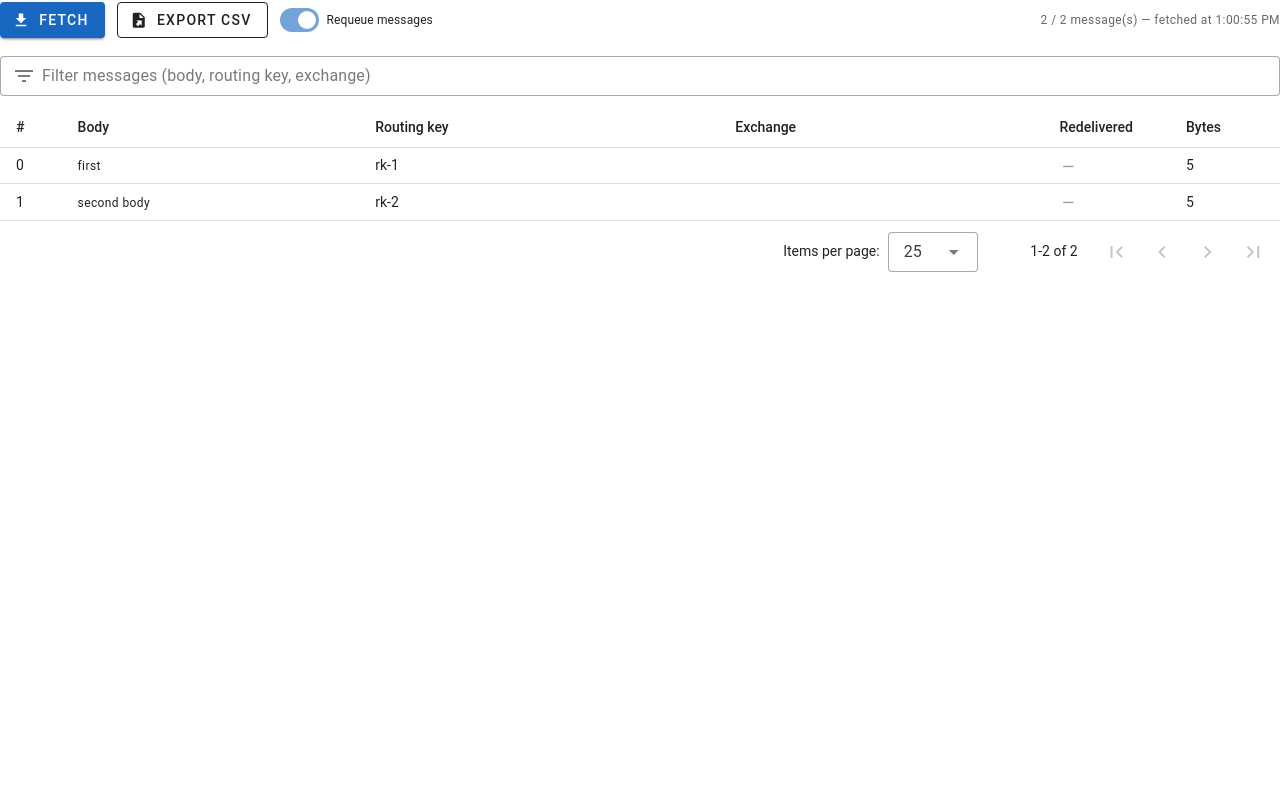
QueueMessageList › Message detail dialog › opens the detail dialog with the clicked message
Click the row "1 second body rk-2 5" at [114, 202], box left=0, top=184, right=1279, bottom=220
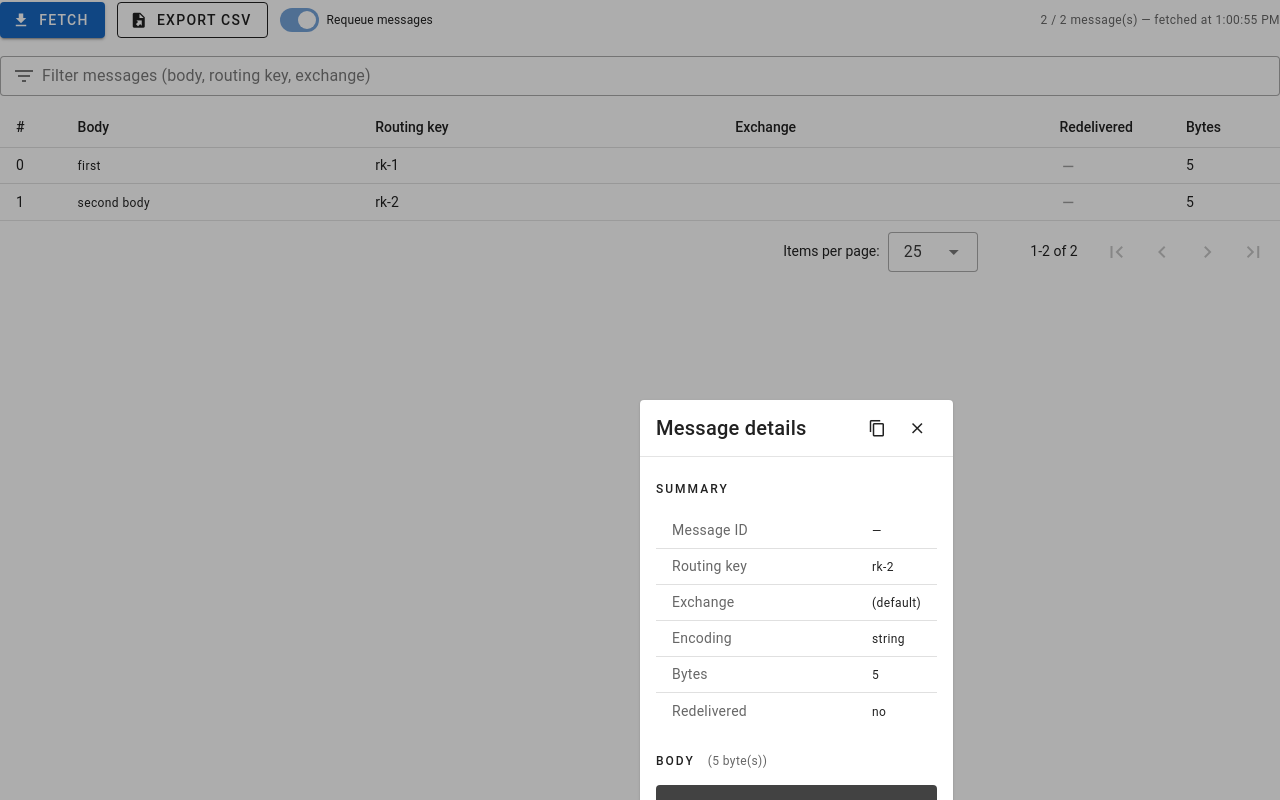
Now the element with test id "message-detail-summary" shows "rk-2", box left=872, top=560, right=894, bottom=574
